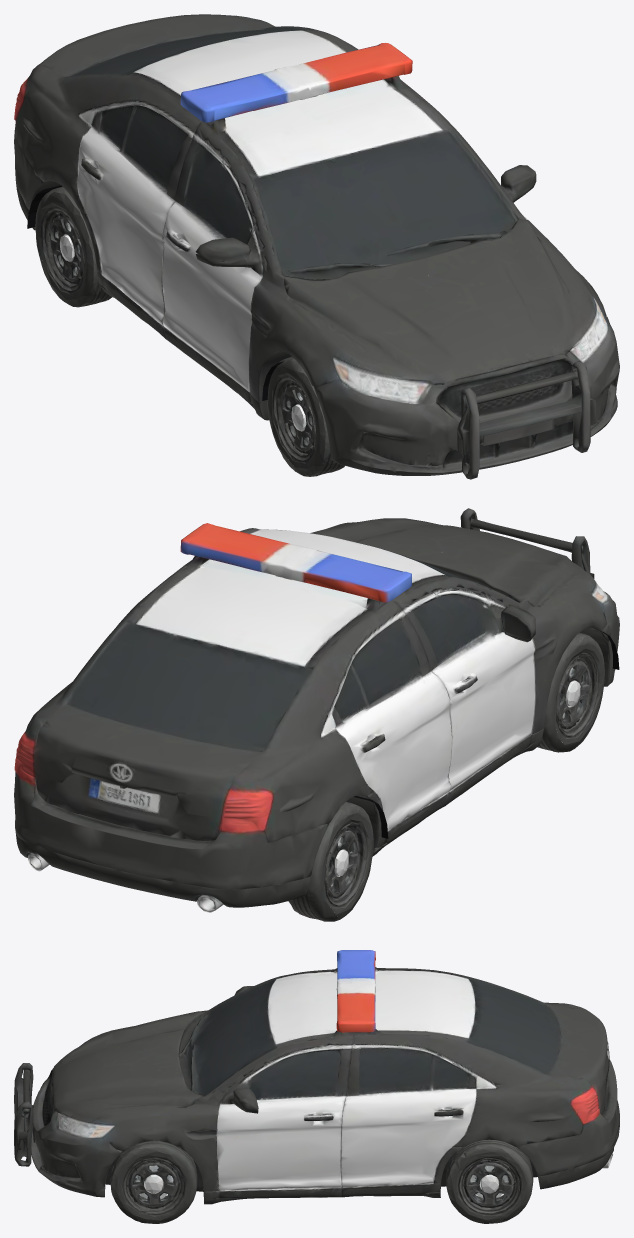
File: car_police.glb
The picture shows the model from 3 angles, top to bottom: view 1: azimuth 30°, elevation 25°; view 2: azimuth 150°, elevation 25°; view 3: azimuth 270°, elevation 25°; orthographic projection. The views are drawn at different scales.
Parts seen in each view (by area): view 1: body, wheel_RR, wheel_FR; view 2: body, wheel_RR, wheel_FR; view 3: body, wheel_RL, wheel_FL.
Boxes of the visible parts, x1,y1,x2,y2 form: body: (14, 14, 619, 479); wheel_RR: (36, 191, 111, 307); wheel_FR: (272, 366, 344, 476); body: (14, 508, 619, 921); wheel_RR: (320, 802, 378, 919); wheel_FR: (556, 633, 610, 748); body: (14, 950, 619, 1223); wheel_RL: (441, 1139, 526, 1223); wheel_FL: (104, 1144, 186, 1223).
Bounding box in the file's own units: 2.32 × 1.73 × 5.
Materials: 2 (1 with a texture image).
